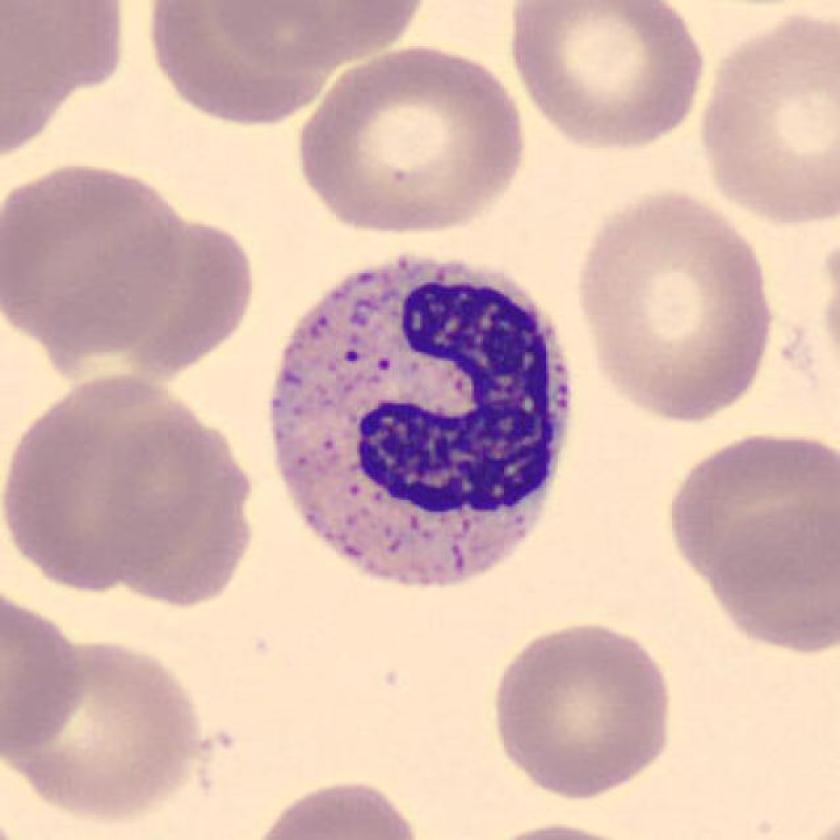neutrophil: (269, 258, 569, 588)
